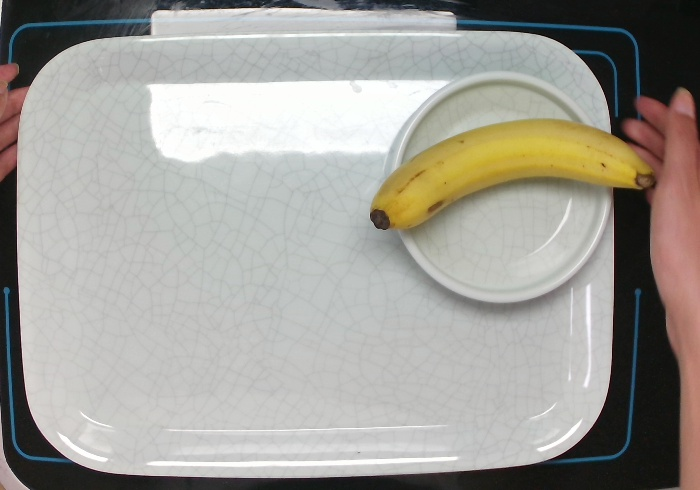JYsf-Xiao_Yuan_Pan: (382, 65, 618, 309)
